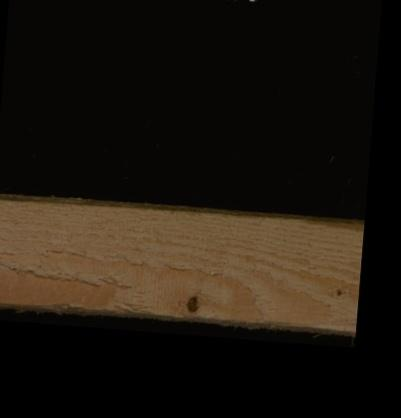dry_knot: (184, 291, 200, 314)
small_knot: (330, 285, 345, 298)
wave: (283, 216, 363, 229)
